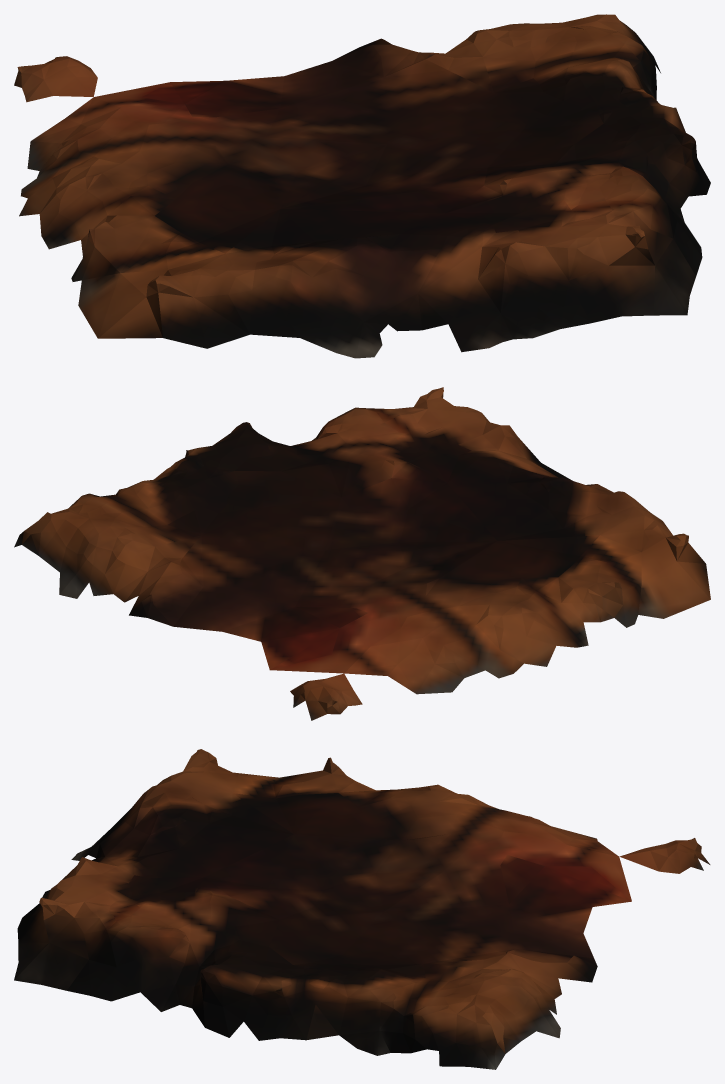
File: salvage_raft_photogrammetry_scan.three-web-toon.glb
The picture shows the model from 3 angles, top to bottom: view 1: azimuth 30°, elevation 25°; view 2: azimuth 150°, elevation 25°; view 3: azimuth 270°, elevation 25°; orthographic projection. The views are drawn at different scales.
Parts seen in each view (by area): view 1: texturedMesh; view 2: texturedMesh; view 3: texturedMesh.
Boxes of the visible parts, left/top/right/bottom form: texturedMesh: left=14, top=14, right=710, bottom=358; texturedMesh: left=14, top=387, right=710, bottom=720; texturedMesh: left=14, top=749, right=710, bottom=1069.
Size of the model in its own units: 2.4 by 0.2596 by 2.39.
1 material, 1 textured.
